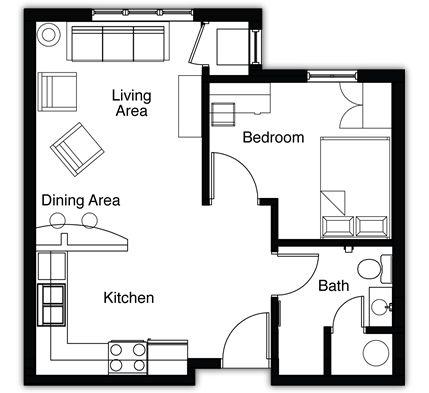wall: (24, 7, 37, 385), (391, 69, 406, 385), (25, 375, 406, 386), (24, 8, 262, 21), (249, 69, 404, 83), (202, 8, 211, 206), (271, 198, 278, 385), (271, 239, 405, 247), (249, 8, 262, 82), (188, 358, 278, 368), (202, 198, 278, 206), (324, 327, 406, 334), (323, 325, 332, 386), (203, 75, 249, 82)
